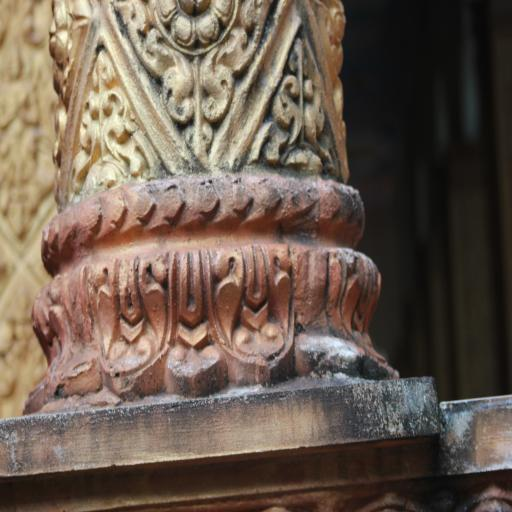la: (203, 246, 297, 380), (301, 249, 392, 370), (66, 60, 152, 184), (98, 261, 165, 388), (164, 252, 225, 391), (37, 267, 98, 402), (268, 56, 335, 176)
